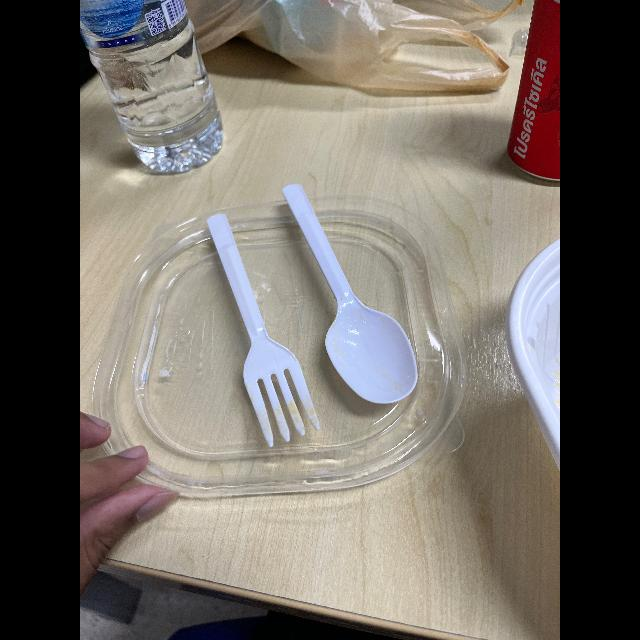plastic_cultery: (260, 173, 424, 407), (196, 210, 322, 450)
